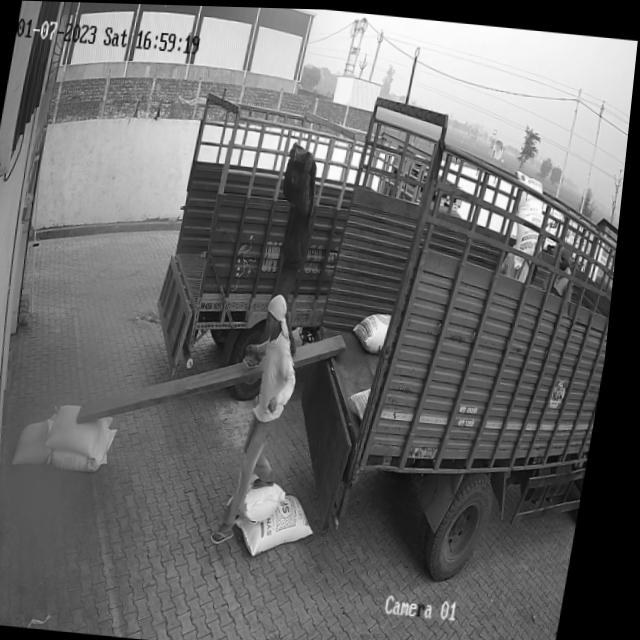sack: (243, 487, 329, 559), (51, 401, 123, 459), (56, 420, 126, 474), (21, 413, 66, 468), (248, 477, 298, 521)
